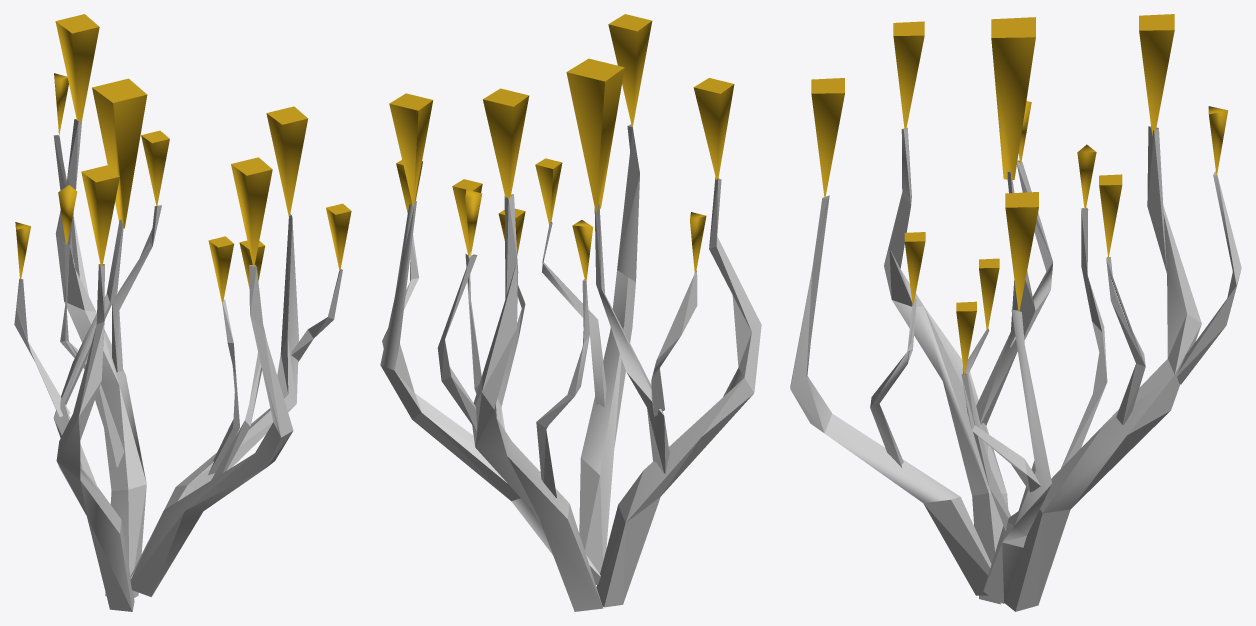
File: VOrganplant_LOD-02.fbx
The picture shows the model from 3 angles, left to right: view 1: azimuth 30°, elevation 25°; view 2: azimuth 150°, elevation 25°; view 3: azimuth 270°, elevation 25°; orthographic projection. The views are drawn at different scales.
Visible parts, largest first — view 1: NurbsPath.000; view 2: NurbsPath.000; view 3: NurbsPath.000.
Boxes of the visible parts, x1,y1,x2,y2 form: NurbsPath.000: [14, 14, 351, 611]; NurbsPath.000: [380, 14, 761, 611]; NurbsPath.000: [790, 14, 1241, 611].
Bounding box in the file's own units: 108 × 174 × 120.
